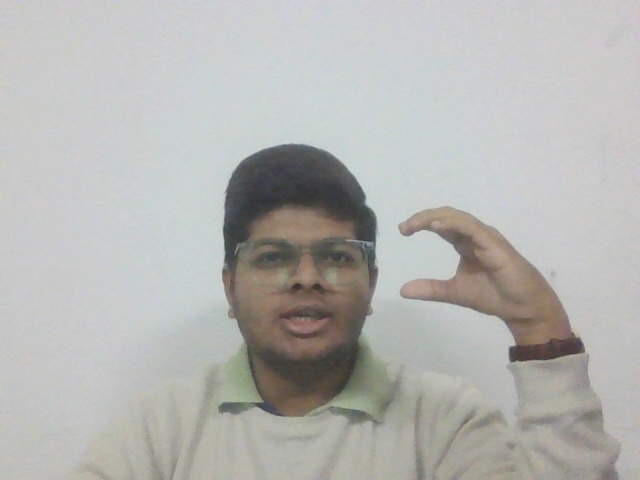C: (396, 204, 539, 322)
